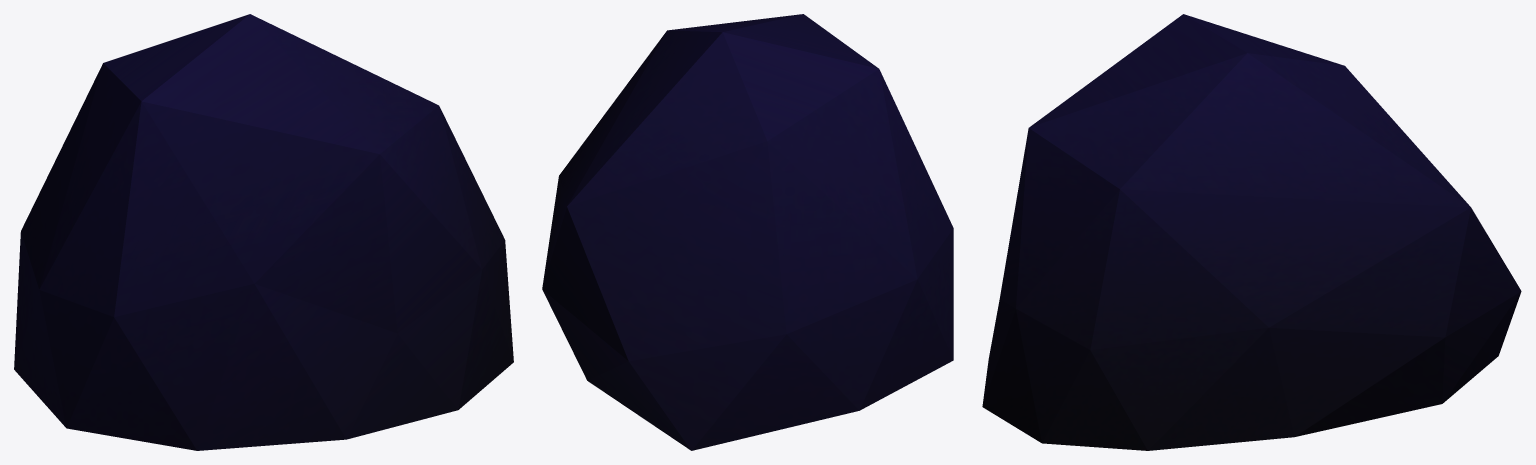
Rendered from SM_Rock03_Var2.fbx.
3 views of the same model, side by side, from view 1: azimuth 30°, elevation 25°; view 2: azimuth 150°, elevation 25°; view 3: azimuth 270°, elevation 25° (orthographic). The views are drawn at different scales.
Visible parts, largest first — view 1: BigRock02.002; view 2: BigRock02.002; view 3: BigRock02.002.
Part boxes in pixels (x1,y1,x2,y2): BigRock02.002: (14,14,513,450); BigRock02.002: (542,14,953,450); BigRock02.002: (982,14,1521,450).
Size of the model in its own units: 390 by 313 by 441.
